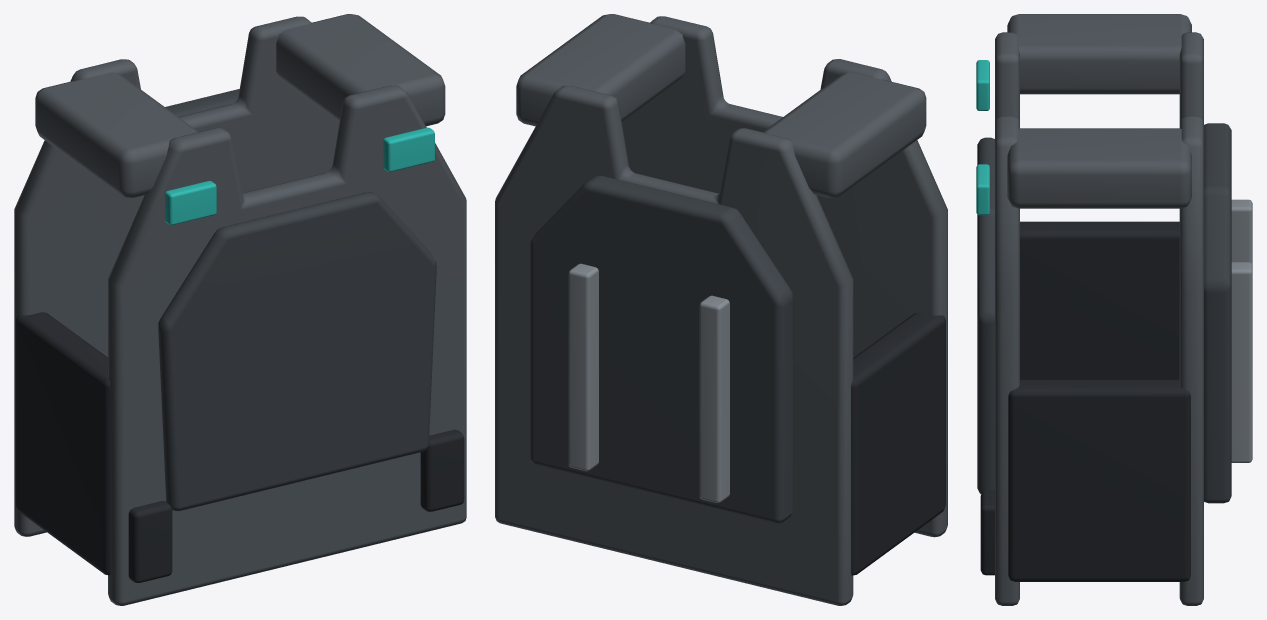
3 renders of one model, left to right at view 1: azimuth 30°, elevation 25°; view 2: azimuth 150°, elevation 25°; view 3: azimuth 270°, elevation 25°, orthographic. The views are drawn at different scales.
Visible parts, largest first — view 1: R05__Slim_chest_plate, R05__Front_fabric_shell, R05__Rear_fabric_shell, R05__Flexible_side, R05__Shoulder_bridge, R05__Shoulder_bridge.001, R05__Flex_segment, R05__Flex_segment.001, R05__Shoulder_identity, R05__Shoulder_identity.001, R05__Back_plate; view 2: R05__Rear_fabric_shell, R05__Back_plate, R05__Front_fabric_shell, R05__Flexible_side, R05__Shoulder_bridge, R05__Shoulder_bridge.001, R05__Back_attachment_channel.001, R05__Back_attachment_channel; view 3: R05__Flexible_side.001, R05__Flexible_side, R05__Shoulder_bridge.001, R05__Shoulder_bridge, R05__Front_fabric_shell, R05__Rear_fabric_shell, R05__Back_plate, R05__Slim_chest_plate, R05__Back_attachment_channel.001, R05__Back_attachment_channel, R05__Flex_segment.001, R05__Shoulder_identity.001 (+1 smaller).
Part boxes in pixels (<box>): R05__Slim_chest_plate: <box>158,192,436,510</box>; R05__Front_fabric_shell: <box>108,85,466,605</box>; R05__Rear_fabric_shell: <box>14,16,339,536</box>; R05__Flexible_side: <box>15,312,110,575</box>; R05__Shoulder_bridge: <box>35,72,198,197</box>; R05__Shoulder_bridge.001: <box>276,14,445,126</box>; R05__Flex_segment: <box>128,501,172,582</box>; R05__Flex_segment.001: <box>420,429,464,511</box>; R05__Shoulder_identity: <box>165,181,216,225</box>; R05__Shoulder_identity.001: <box>383,127,434,171</box>; R05__Back_plate: <box>165,89,239,116</box>; R05__Rear_fabric_shell: <box>495,85,853,605</box>; R05__Back_plate: <box>530,175,793,523</box>; R05__Front_fabric_shell: <box>622,16,947,537</box>; R05__Flexible_side: <box>851,312,945,575</box>; R05__Shoulder_bridge: <box>763,72,926,197</box>; R05__Shoulder_bridge.001: <box>516,14,685,126</box>; R05__Back_attachment_channel.001: <box>568,263,598,471</box>; R05__Back_attachment_channel: <box>699,295,729,502</box>; R05__Flexible_side.001: <box>1008,379,1190,581</box>; R05__Flexible_side: <box>1020,221,1179,379</box>; R05__Shoulder_bridge.001: <box>1007,128,1191,208</box>; R05__Shoulder_bridge: <box>1007,14,1191,94</box>; R05__Front_fabric_shell: <box>995,32,1019,605</box>; R05__Rear_fabric_shell: <box>1179,32,1203,605</box>; R05__Back_plate: <box>1204,123,1231,503</box>; R05__Slim_chest_plate: <box>977,137,994,493</box>; R05__Back_attachment_channel.001: <box>1231,262,1252,462</box>; R05__Back_attachment_channel: <box>1231,199,1252,265</box>; R05__Flex_segment.001: <box>980,490,994,575</box>; R05__Shoulder_identity.001: <box>976,164,989,215</box>.
Size of the model in its own units: 0.4204 by 0.5 by 0.2845.
